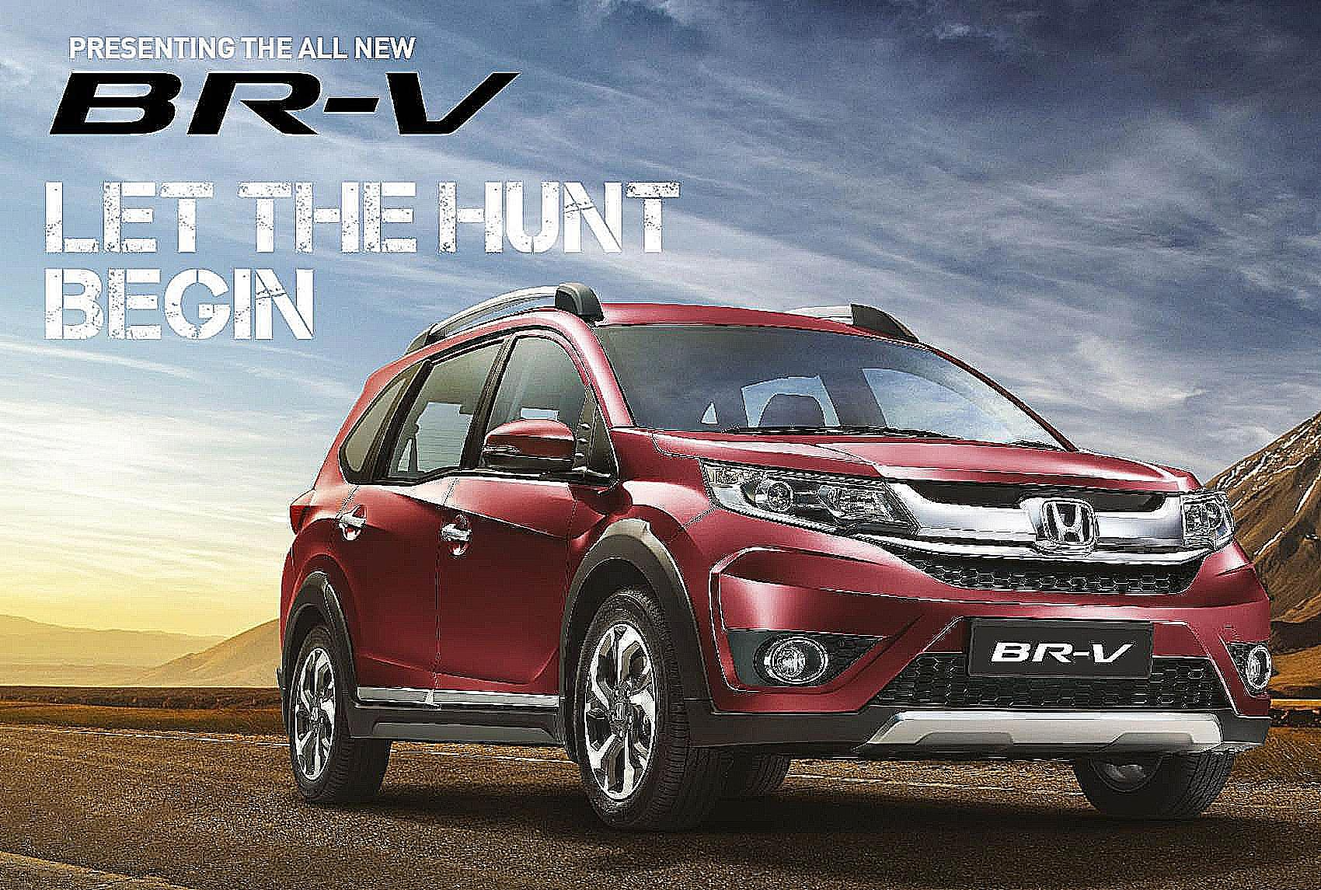Car hood: (651, 425, 1211, 496)
Driver-s door - -F-R-: (440, 310, 570, 717)
Fender - -F-R-: (560, 405, 715, 715)
Fender - -R-R-: (286, 487, 365, 617)
Front bumper: (669, 524, 1282, 758)
Headlight - -L-: (1163, 477, 1248, 556)
Headlight - -R-: (695, 451, 927, 544)
Passenger-s door - -R-R-: (322, 320, 437, 707)
Rear bumper: (267, 549, 307, 730)
Rear light - -R-: (274, 482, 331, 536)
Side bumper - -R-: (327, 678, 579, 757)
Side mirror - -R-: (473, 411, 592, 488)
